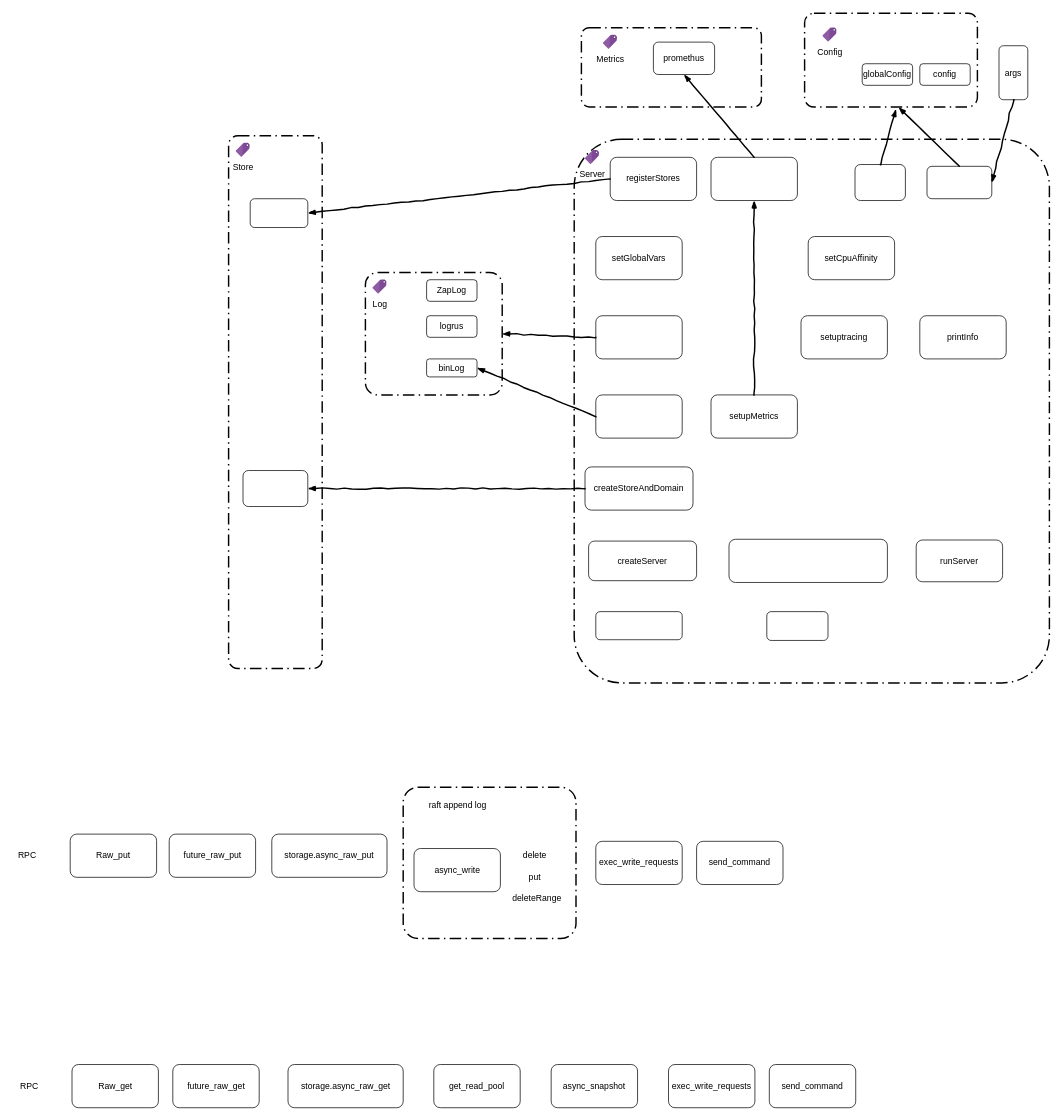
This 1062x1120 diagram has some shape labels left out. Here are the shapes that lost their labels. From the top down, the centre of each, then its label:
the point at 753,179: registerMetrics
the point at 879,182: loadConfig
the point at 959,182: overrideConfig
the point at 278,213: Register
the point at 638,337: setupLog
the point at 638,416: setupBinlogClient
the point at 275,488: Session
the point at 807,560: SetupSignalHandler(serverShutdown)
the point at 638,625: cleanup
the point at 797,625: syncLog
